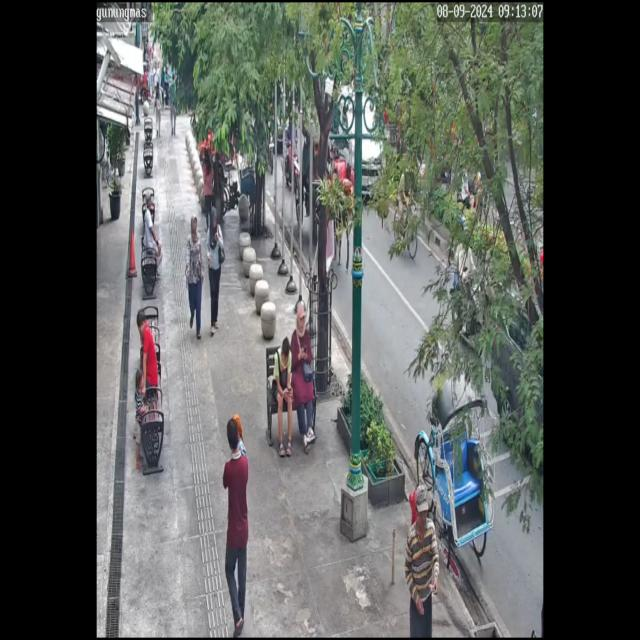Car: (484, 239, 544, 492), (315, 67, 388, 218)
